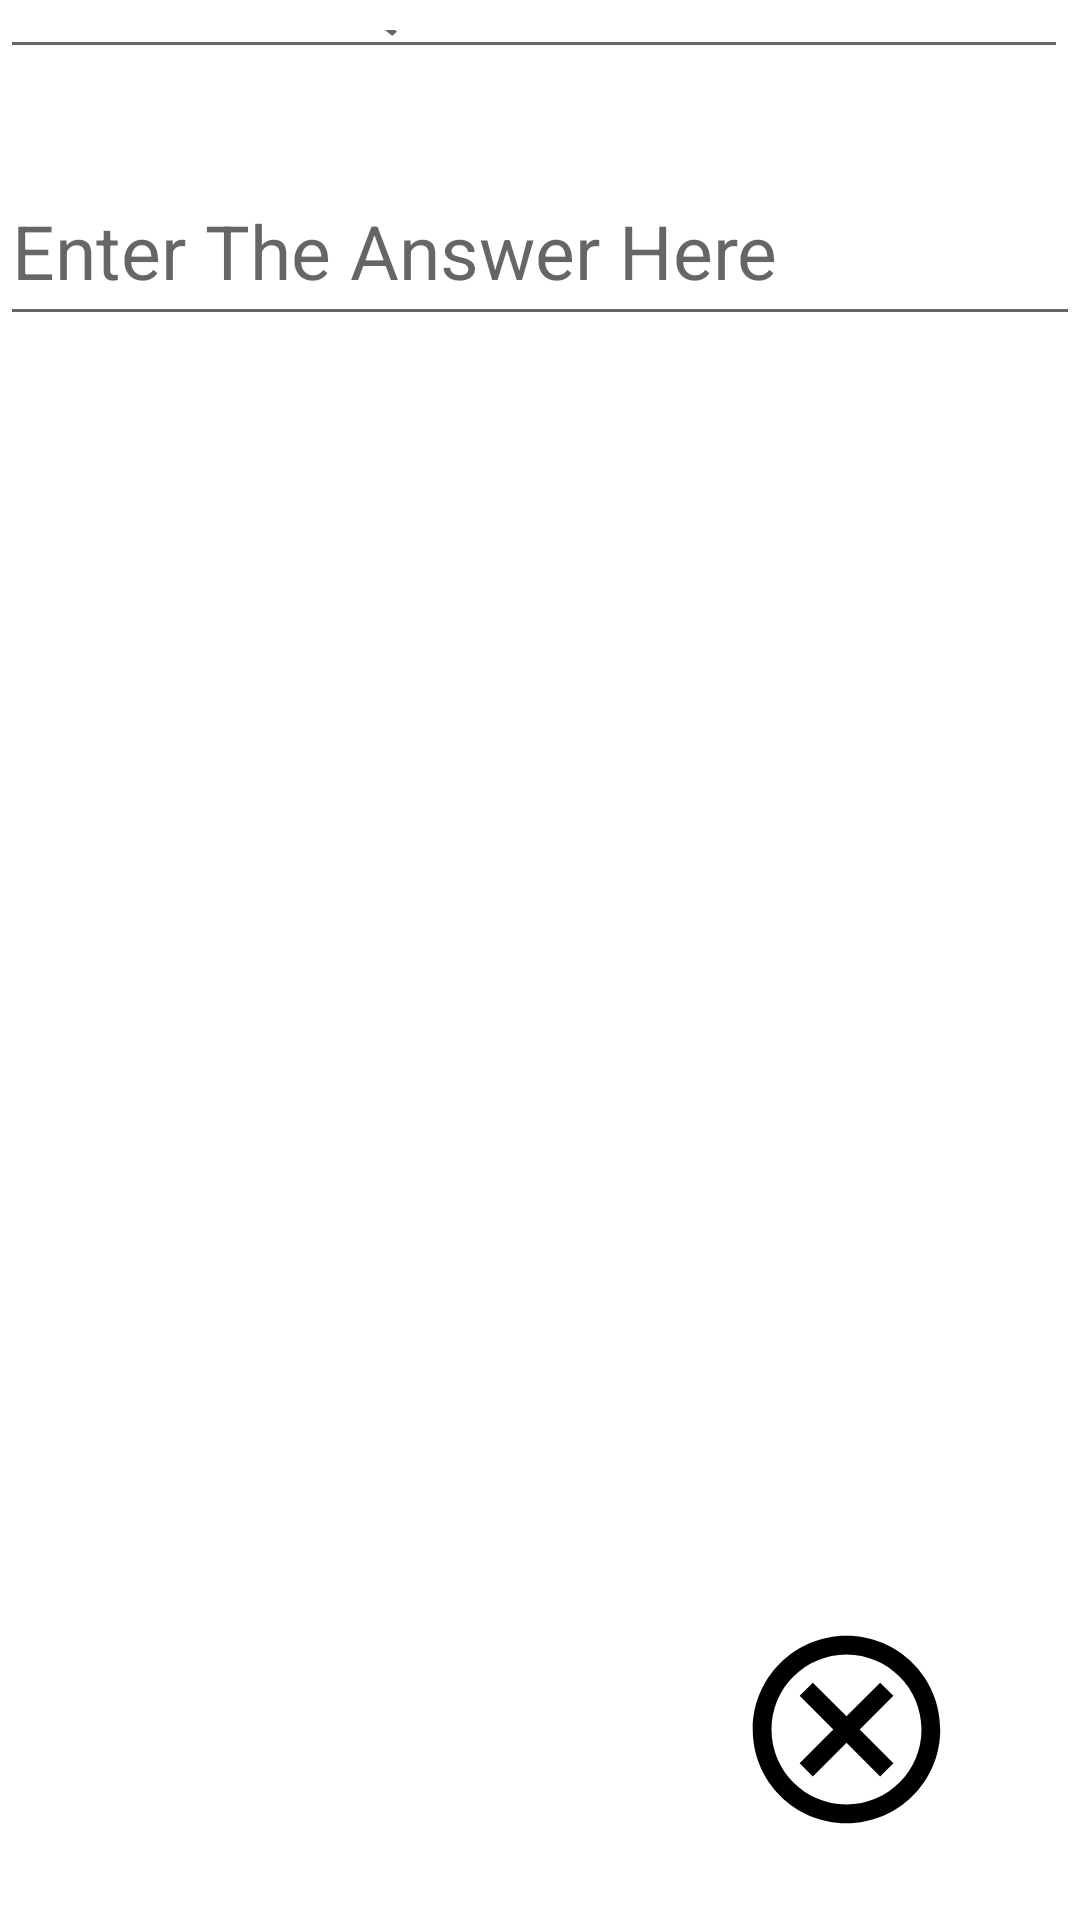

Screen size 1080 x 1920. Icon name, then its box in pixels as (x1, y1, x2, y2):
cancel: (752, 1635, 941, 1824)
